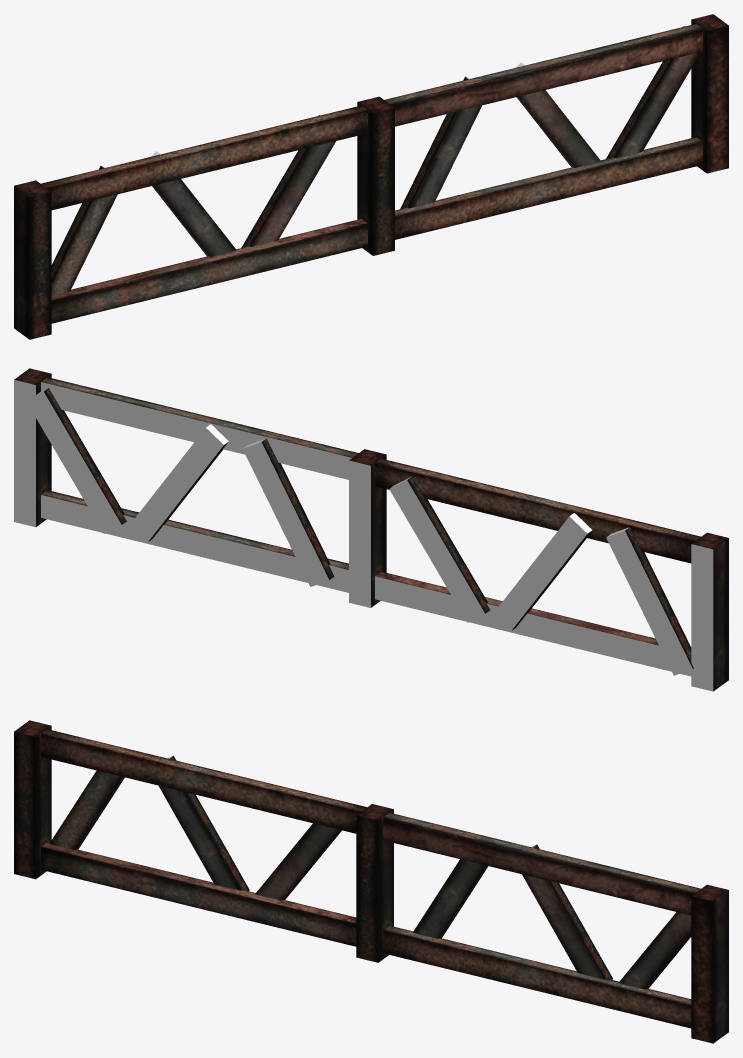
File: Slap_SH_PlateformAdd_01.fbx
3 views of the same model, one above another, from view 1: azimuth 30°, elevation 25°; view 2: azimuth 150°, elevation 25°; view 3: azimuth 330°, elevation 25° (orthographic).
Visible parts, largest first — view 1: Slap_SH_PlateformAdd_01; view 2: Slap_SH_PlateformAdd_01; view 3: Slap_SH_PlateformAdd_01.
Boxes of the visible parts, box(x1,y1,x2,y2) form: Slap_SH_PlateformAdd_01: box(14, 14, 728, 339); Slap_SH_PlateformAdd_01: box(14, 368, 728, 691); Slap_SH_PlateformAdd_01: box(14, 720, 728, 1043).
Size of the model in its own units: 2.04 by 0.3968 by 0.0841.
